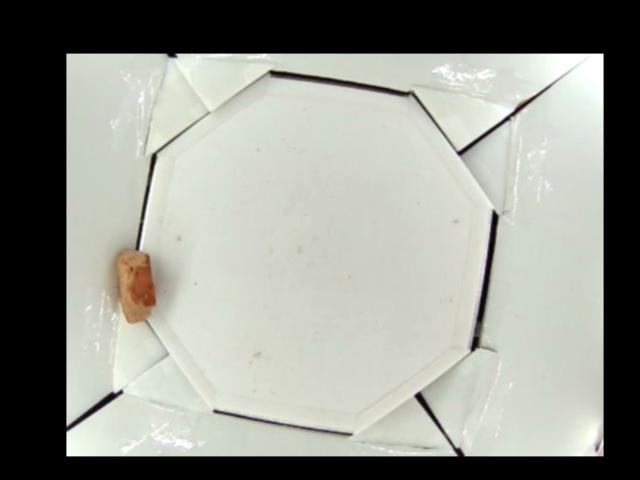Brisk: (114, 249, 157, 324)
